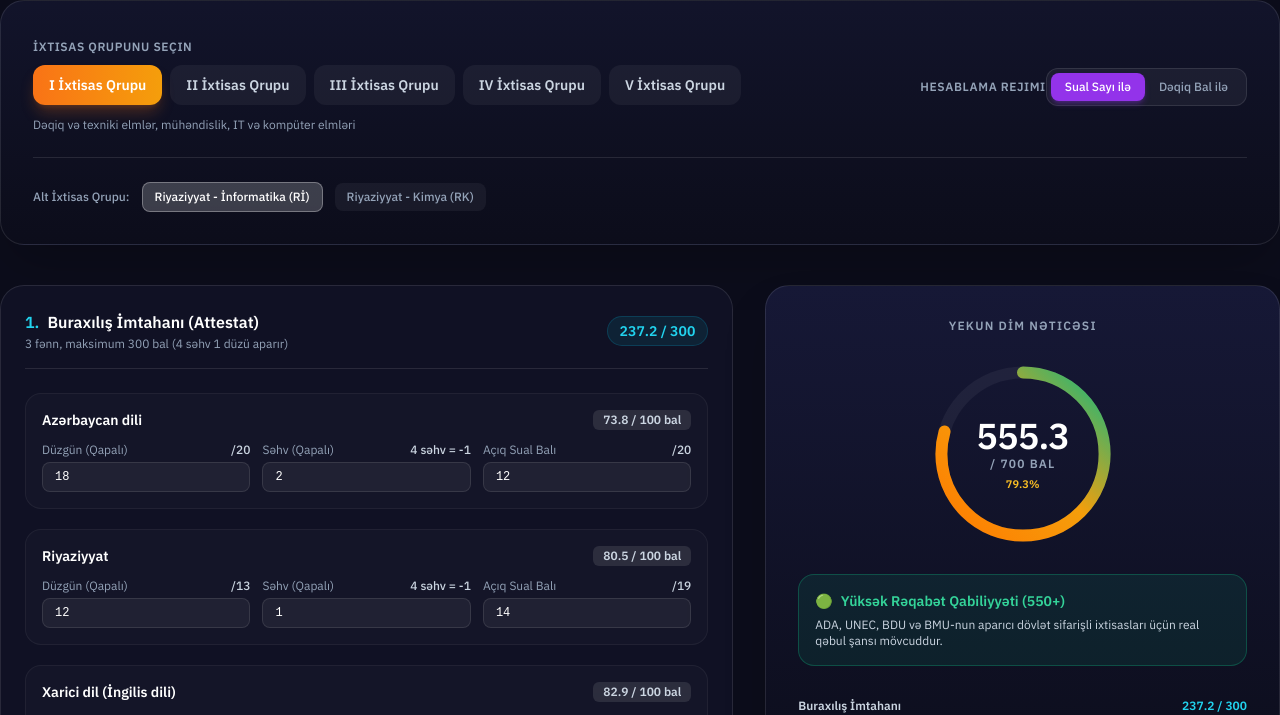
it: DimScoreSimulator Component › switches to Group 2 and renders geography subject
This screenshot has width=1280, height=715.
What coordinates should you click on to do the following:
click the button "II İxtisas Qrupu"
I would click on:
 (238, 85)
Its box is [170,65,306,105].
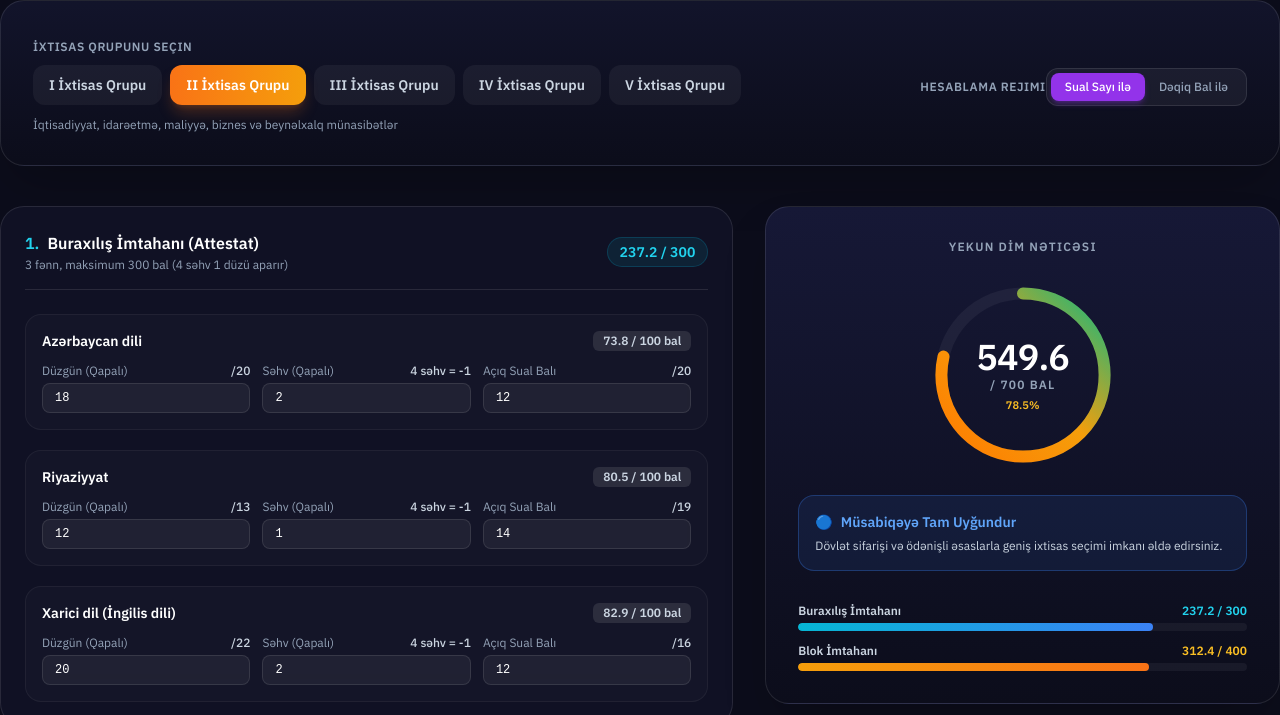
Result: the text "İqtisadiyyat, idarəetmə, maliyyə" is shown at [33,117,398,132]
